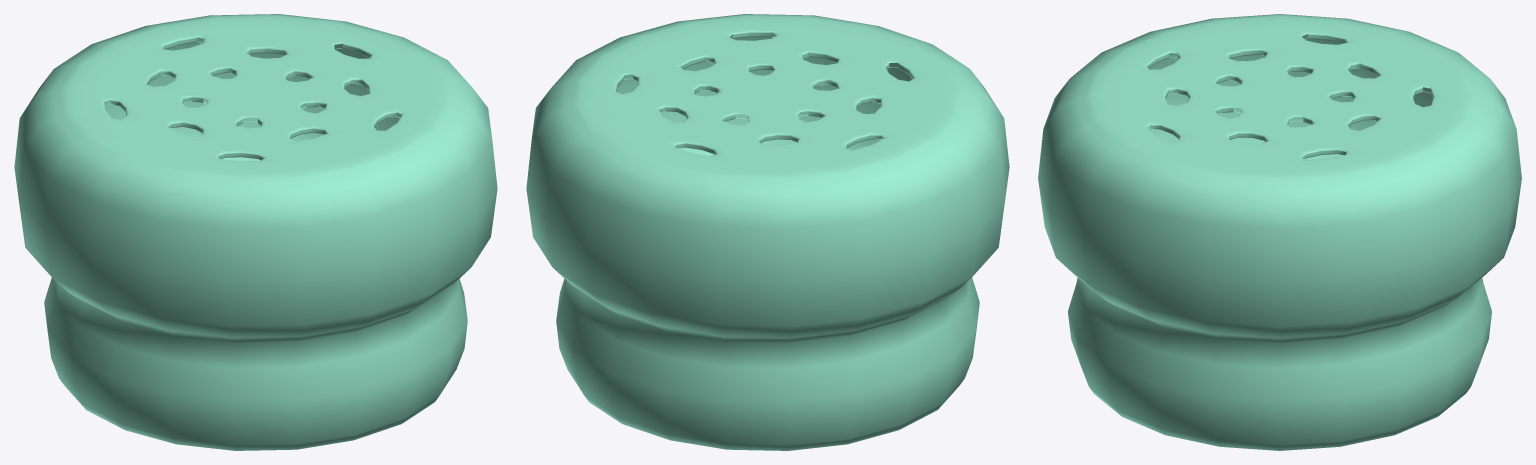
Rendered from uploads_files_1923420_Salt+Shakers_Cap.FBX.
3 views of the same model, side by side, from view 1: azimuth 30°, elevation 25°; view 2: azimuth 150°, elevation 25°; view 3: azimuth 270°, elevation 25° (orthographic).
Parts seen in each view (by area): view 1: uploads_files_1923420_Salt+Shakers_Cap; view 2: uploads_files_1923420_Salt+Shakers_Cap; view 3: uploads_files_1923420_Salt+Shakers_Cap.
Part boxes in pixels (box(x1,y1,x2,y2)): uploads_files_1923420_Salt+Shakers_Cap: box(14, 14, 497, 450); uploads_files_1923420_Salt+Shakers_Cap: box(526, 14, 1009, 450); uploads_files_1923420_Salt+Shakers_Cap: box(1038, 14, 1521, 450).
Size of what is drawn, in the model's own units: 1.53 by 1.53 by 0.9527.
